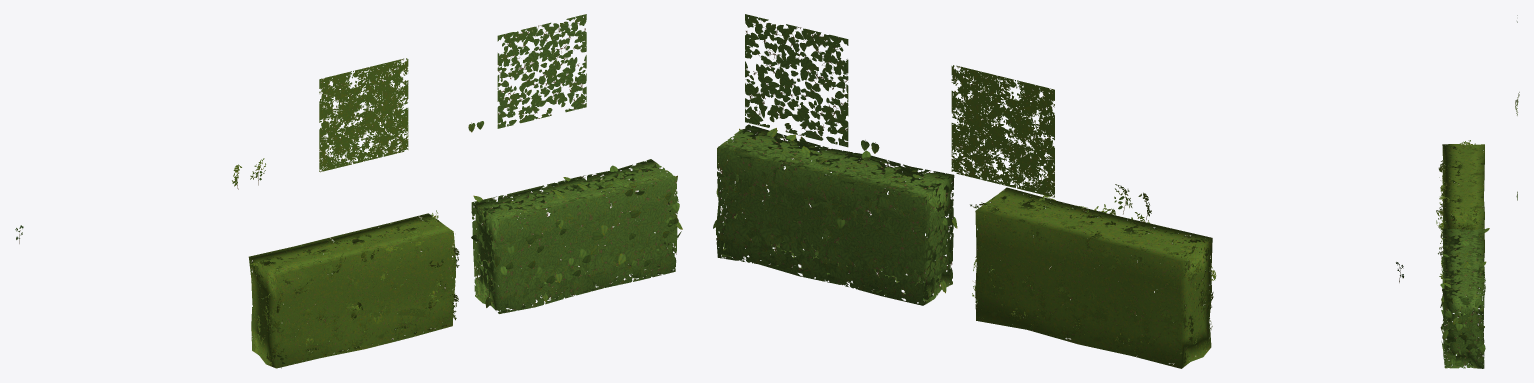
3 views of the same model, side by side, from view 1: azimuth 30°, elevation 25°; view 2: azimuth 150°, elevation 25°; view 3: azimuth 270°, elevation 25° (orthographic). The views are drawn at different scales.
Parts seen in each view (by area): view 1: TileExample Medium, TileExample Large, Tile Medium, Tile Large; view 2: TileExample Medium, TileExample Large, Tile Medium, Tile Large; view 3: TileExample Large, TileExample Medium.
Boxes of the visible parts, x1,y1,x2,y2 form: TileExample Medium: (248,210,459,368); TileExample Large: (471,159,682,313); Tile Medium: (319,58,408,172); Tile Large: (497,14,586,128); TileExample Medium: (970,187,1216,368); TileExample Large: (713,124,957,305); Tile Medium: (951,65,1054,197); Tile Large: (745,14,848,147); TileExample Large: (1440,228,1489,368); TileExample Medium: (1436,140,1484,283).
Size of the model in its own units: 13.99 by 5.09 by 2.13.
Materials: 5 (5 with a texture image).
